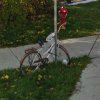Bicycle: (14, 32, 75, 76)
